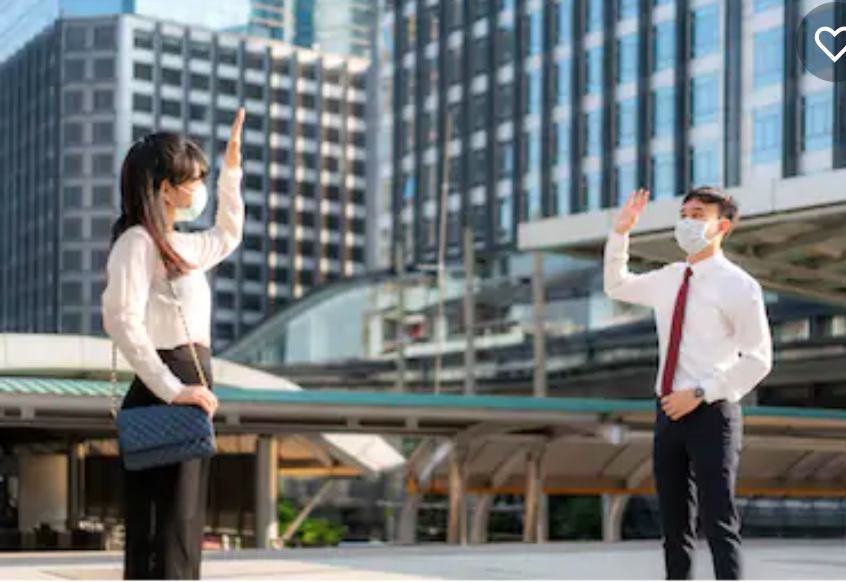Good: (96, 112, 773, 582)
